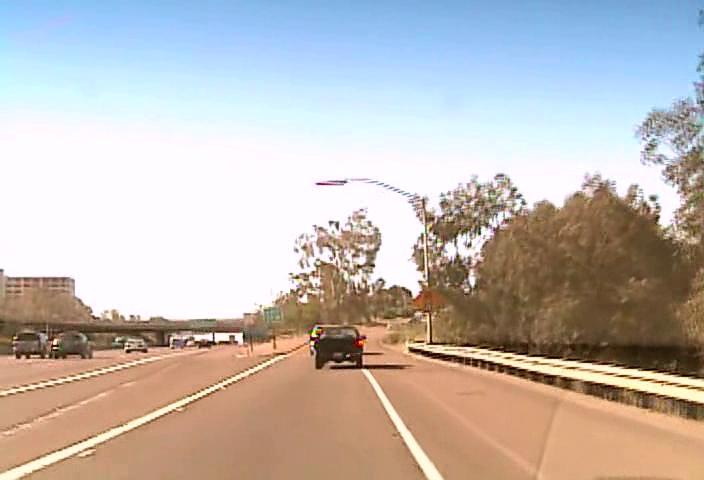signalAhead: (411, 284, 446, 315)
